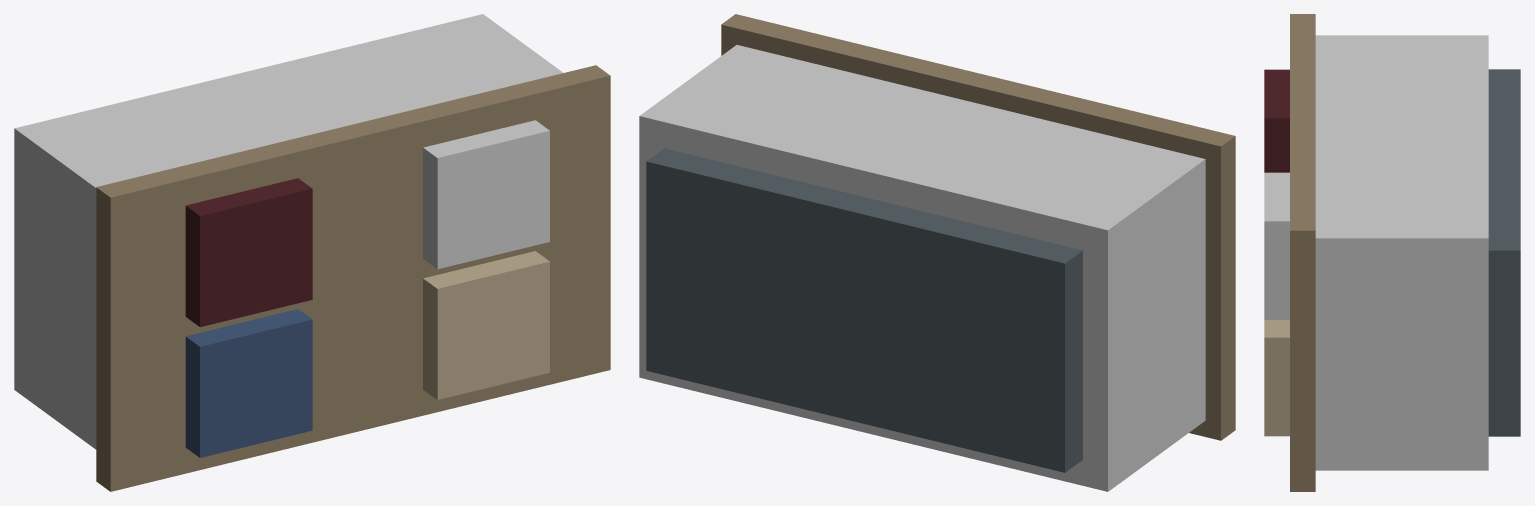
Rendered from SM_BSW_FoldedGoodsTable.obj.
3 renders of one model, left to right at view 1: azimuth 30°, elevation 25°; view 2: azimuth 150°, elevation 25°; view 3: azimuth 270°, elevation 25°, orthographic. The views are drawn at different scales.
Parts seen in each view (by area): view 1: SM_BSW_FoldedGoodsTable; view 2: SM_BSW_FoldedGoodsTable; view 3: SM_BSW_FoldedGoodsTable.
Boxes of the visible parts, x1,y1,x2,y2 form: SM_BSW_FoldedGoodsTable: [14, 14, 610, 491]; SM_BSW_FoldedGoodsTable: [639, 14, 1235, 491]; SM_BSW_FoldedGoodsTable: [1264, 14, 1520, 491].
Bounding box in the file's own units: 160 × 90 × 80.
